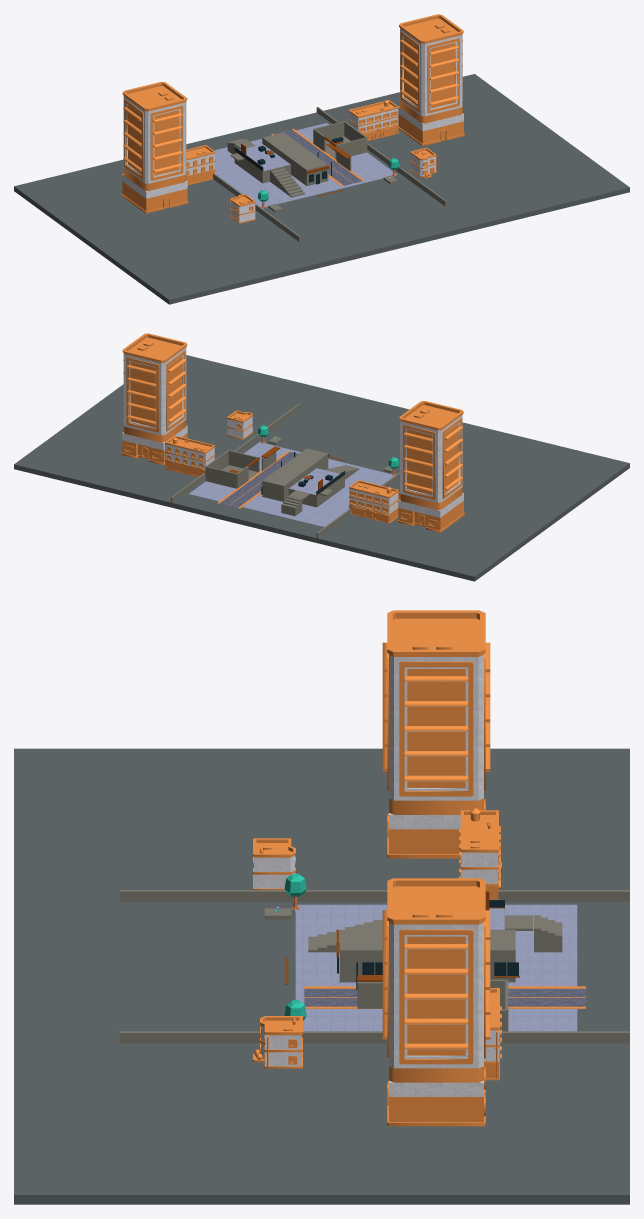
Rendered from Street-1.obj.
The picture shows the model from 3 angles, top to bottom: view 1: azimuth 30°, elevation 25°; view 2: azimuth 150°, elevation 25°; view 3: azimuth 270°, elevation 25°; orthographic projection. The views are drawn at different scales.
Parts seen in each view (by area): view 1: surface1, surface6, surface5, surface4, surface2, surface14, surface17, surface16; view 2: surface1, surface6, surface4, surface5, surface2, surface14; view 3: surface1, surface6, surface5, surface4, surface2, surface14, surface13, surface17.
Boxes of the visible parts, box(x1,y1,x2,y2) form: surface1: box(14, 74, 629, 304); surface6: box(121, 14, 464, 223); surface5: box(122, 28, 463, 222); surface4: box(213, 107, 446, 241); surface2: box(214, 123, 397, 207); surface14: box(276, 130, 359, 184); surface17: box(234, 137, 343, 184); surface16: box(235, 136, 351, 196); surface1: box(14, 355, 629, 581); surface6: box(121, 333, 464, 532); surface4: box(170, 403, 399, 538); surface5: box(122, 347, 463, 517); surface2: box(189, 442, 394, 526); surface14: box(222, 452, 298, 507); surface1: box(14, 748, 629, 1204); surface6: box(253, 610, 501, 1126); surface5: box(254, 655, 499, 1096); surface4: box(119, 890, 629, 1043); surface2: box(295, 904, 577, 1031); surface14: box(304, 991, 585, 1004); surface13: box(304, 986, 585, 1008); surface17: box(337, 900, 518, 989).
Bounding box in the file's own units: 120 × 27.12 × 70.
